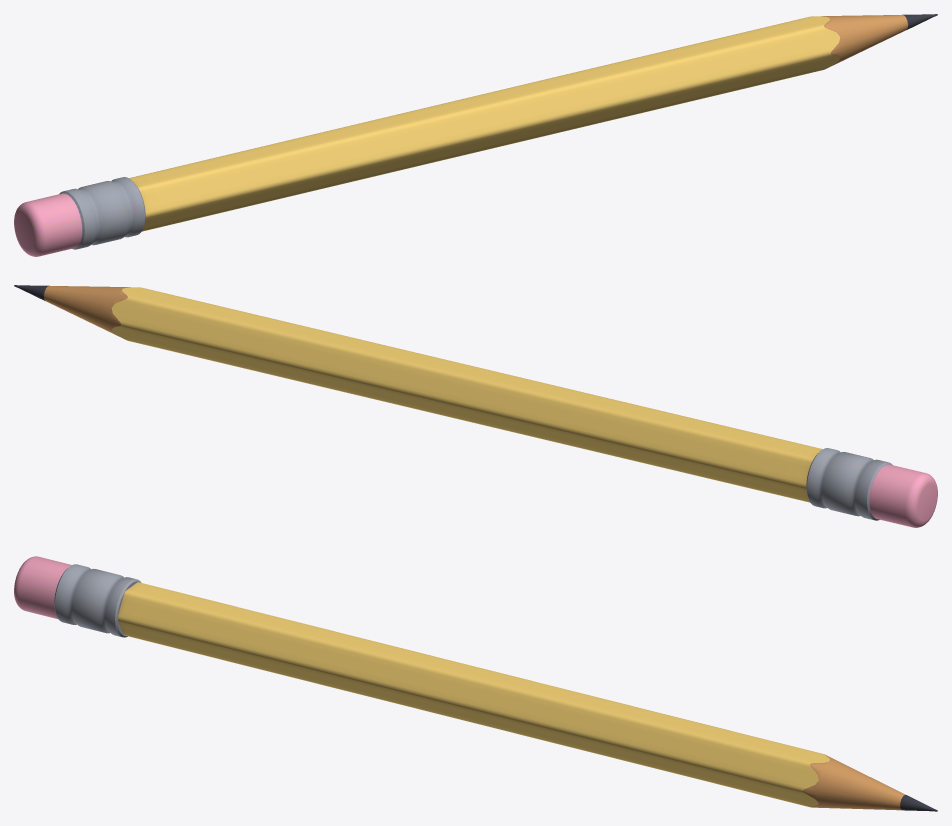
Rendered from lapiz.glb.
3 renders of one model, top to bottom at view 1: azimuth 30°, elevation 25°; view 2: azimuth 150°, elevation 25°; view 3: azimuth 330°, elevation 25°, orthographic.
Visible parts, largest first — view 1: pencil_body; view 2: pencil_body; view 3: pencil_body.
Part boxes in pixels (x1,y1,x2,y2): pencil_body: [14, 14, 937, 256]; pencil_body: [14, 285, 937, 527]; pencil_body: [14, 556, 937, 811].
Size of the model in its own units: 0.1792 by 0.0103 by 0.0102.
Materials: 1 (1 with a texture image).
